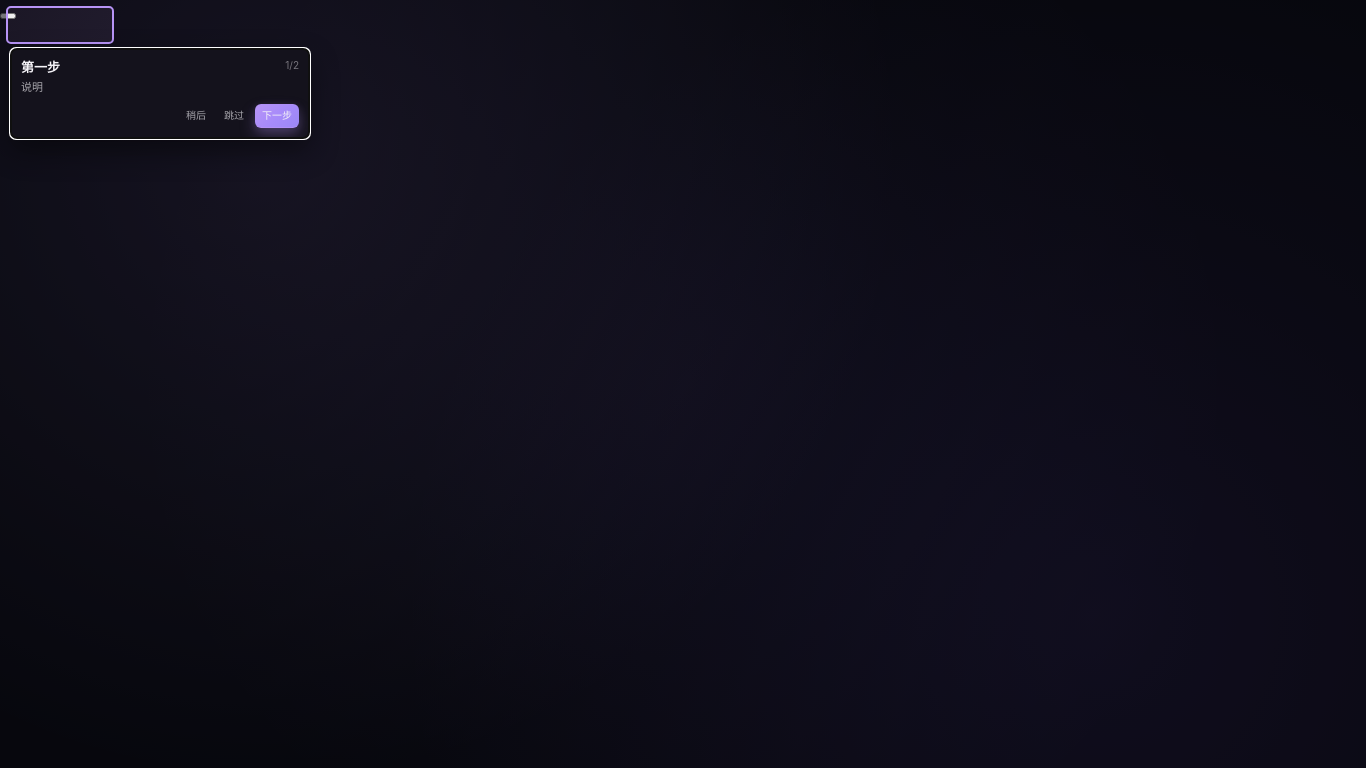
OnboardingGuide › restores focus after closing with 跳过
Click the button "跳过". click: x=234, y=116
box: x1=217 y1=104 x2=251 y2=128
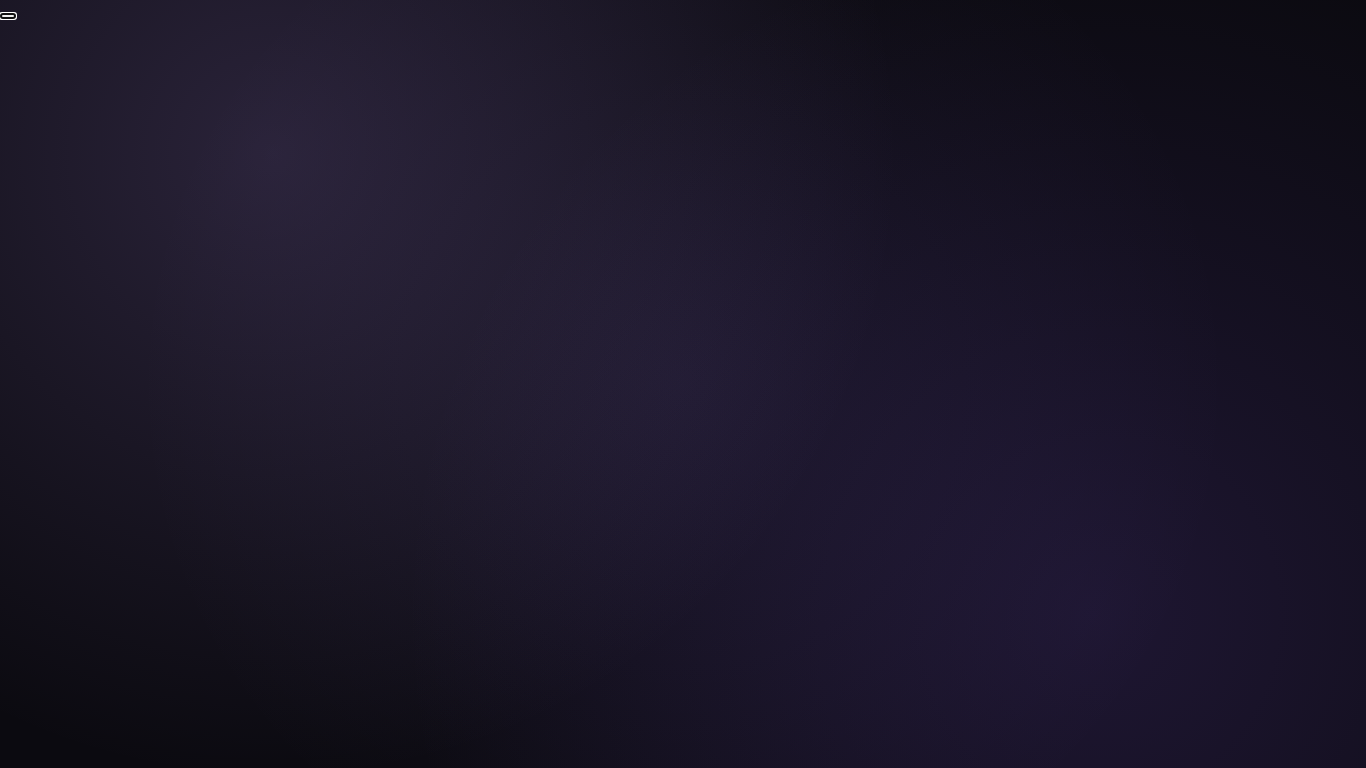
Result: the dialog with class "onboarding-guide" is gone
